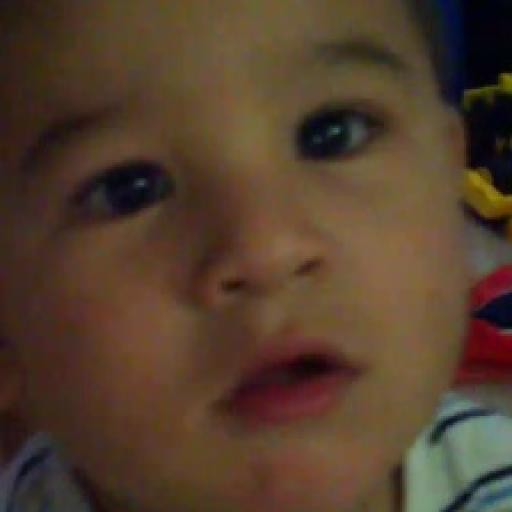Autism: (4, 7, 512, 512)
